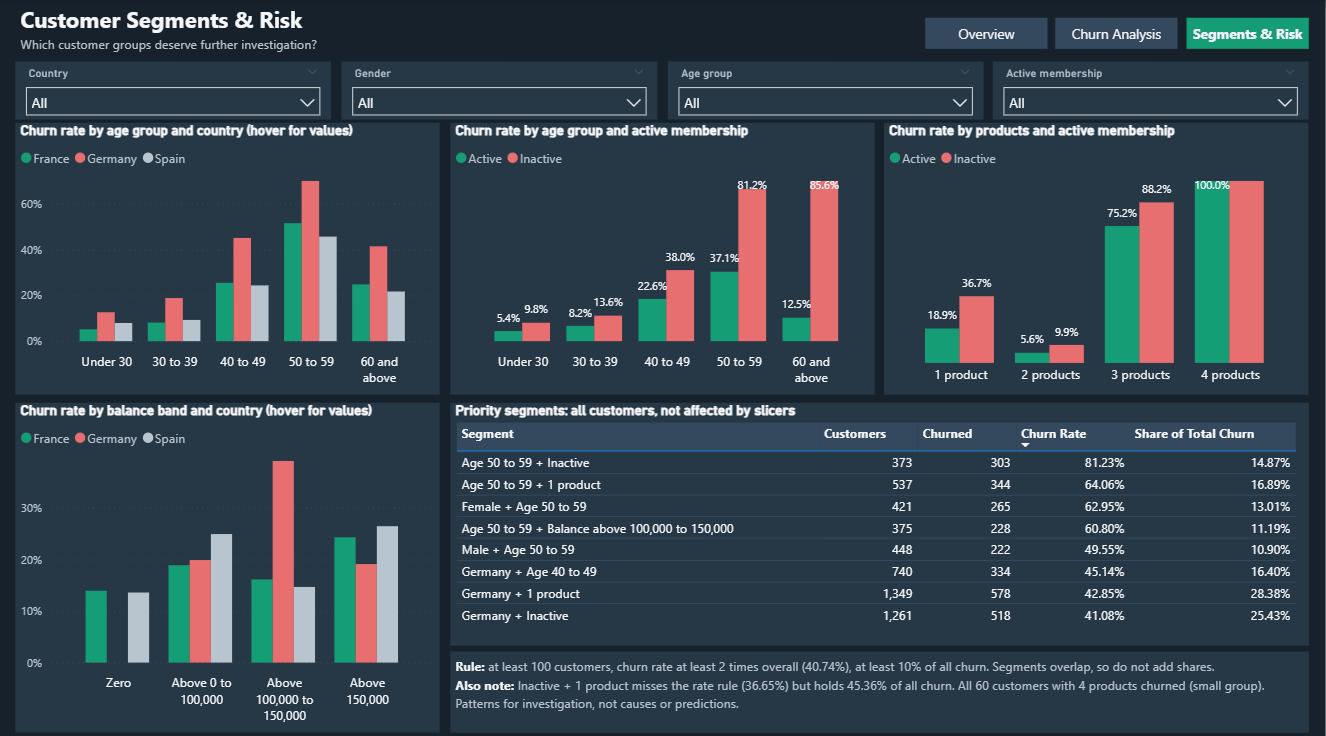

This screenshot's page, from the dashboard's own definition file:
{"tool":"powerbi","page":{"name":"Customer Segments & Risk","canvas":[1280,720],"ordinal":2},"visuals":[{"type":"textbox","box":[16,0,800,60],"z":3600},{"type":"actionButton","box":[894,18,118,30],"z":3700},{"type":"actionButton","box":[1020,18,118,30],"z":3800},{"type":"actionButton","box":[1146,18,118,30],"z":3900},{"type":"slicer","fields":{"Values":["bank_customers.country"]},"box":[16,60,304.5,56],"z":4000},{"type":"slicer","fields":{"Values":["bank_customers.gender"]},"box":[330.5,60,304.5,56],"z":4100},{"type":"slicer","fields":{"Values":["bank_customers.age_group"]},"box":[645,60,304.5,56],"z":4200},{"type":"slicer","fields":{"Values":["bank_customers.Membership Status"]},"box":[959.5,60,304.5,56],"z":4300},{"type":"clusteredColumnChart","title":"Churn rate by age group and country (hover for values)","fields":{"Category":["bank_customers.age_group"],"Series":["bank_customers.country"],"Y":["bank_customers.Churn Rate"]},"box":[16,120,409.3,262],"z":4400},{"type":"clusteredColumnChart","title":"Churn rate by age group and active membership","fields":{"Category":["bank_customers.age_group"],"Series":["bank_customers.Membership Status"],"Y":["bank_customers.Churn Rate"]},"box":[435.3,120,409.3,262],"z":4500},{"type":"clusteredColumnChart","title":"Churn rate by products and active membership","fields":{"Category":["bank_customers.Products Held"],"Series":["bank_customers.Membership Status"],"Y":["bank_customers.Churn Rate"]},"box":[854.7,120,409.3,262],"z":4600},{"type":"clusteredColumnChart","title":"Churn rate by balance band and country (hover for values)","fields":{"Category":["bank_customers.balance_band"],"Series":["bank_customers.country"],"Y":["bank_customers.Churn Rate"]},"box":[16,390,409.3,318],"z":4700},{"type":"tableEx","title":"Priority segments: all customers, not affected by slicers","fields":{"Values":["Priority Segments.Segment","Priority Segments.Customers","Priority Segments.Churned","Priority Segments.Churn Rate","Priority Segments.Share of Total Churn"]},"box":[435.3,390,828.7,234],"z":4800},{"type":"textbox","box":[435.3,630,828.7,78],"z":4900}]}

Visuals, with their boxes in screenshot pixels (x1, y1, x2, y2), scaled from the page's 1280x720 canvas onto the 1326x736 screenshot:
textbox: box(17, 0, 845, 61)
actionButton: box(926, 18, 1048, 49)
actionButton: box(1057, 18, 1179, 49)
actionButton: box(1187, 18, 1309, 49)
slicer - bank_customers.country: box(17, 61, 332, 119)
slicer - bank_customers.gender: box(342, 61, 658, 119)
slicer - bank_customers.age_group: box(668, 61, 984, 119)
slicer - bank_customers.Membership Status: box(994, 61, 1309, 119)
"Churn rate by age group and country (hover for values)" clusteredColumnChart: box(17, 123, 441, 390)
"Churn rate by age group and active membership" clusteredColumnChart: box(451, 123, 875, 390)
"Churn rate by products and active membership" clusteredColumnChart: box(885, 123, 1309, 390)
"Churn rate by balance band and country (hover for values)" clusteredColumnChart: box(17, 399, 441, 724)
"Priority segments: all customers, not affected by slicers" tableEx: box(451, 399, 1309, 638)
textbox: box(451, 644, 1309, 724)
